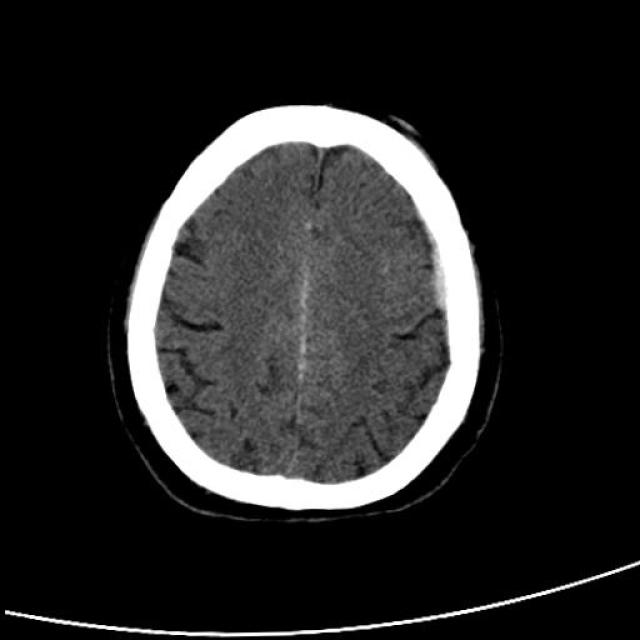Subdural: (388, 188, 474, 326)
